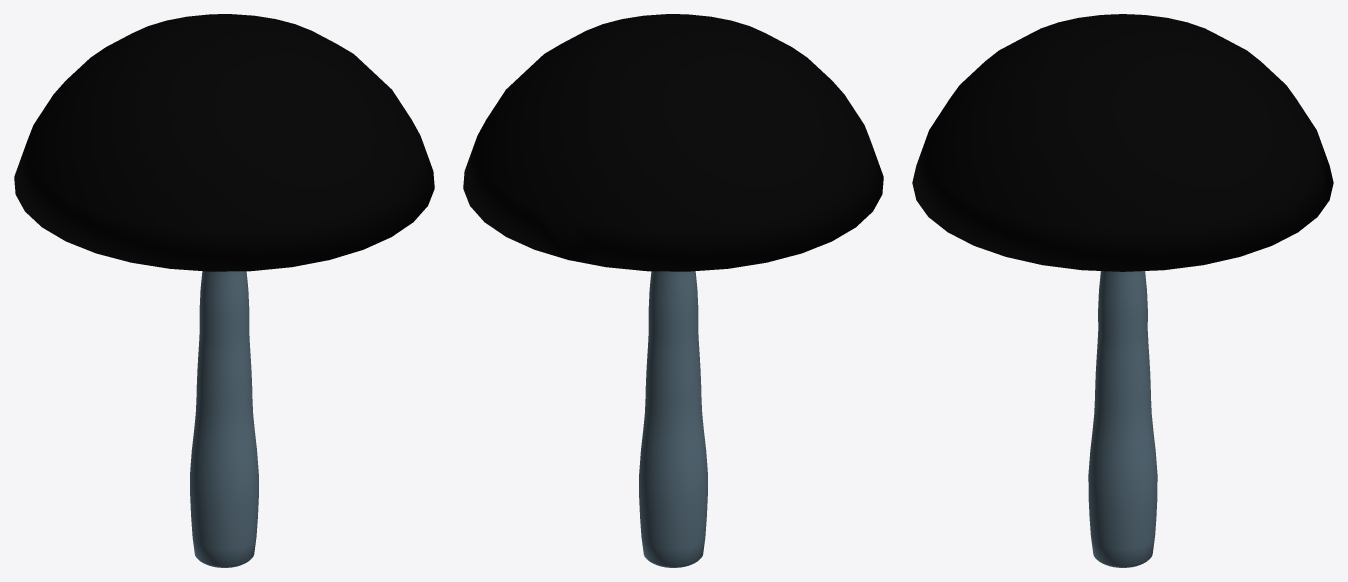
The model's file is big_shoom.glb.
3 renders of one model, left to right at view 1: azimuth 30°, elevation 25°; view 2: azimuth 150°, elevation 25°; view 3: azimuth 270°, elevation 25°, orthographic.
Parts seen in each view (by area): view 1: big_shoom; view 2: big_shoom; view 3: big_shoom.
Part boxes in pixels (x1=…): big_shoom: x1=14, y1=14, x2=434, y2=567; big_shoom: x1=463, y1=14, x2=883, y2=567; big_shoom: x1=912, y1=14, x2=1333, y2=567.
Size of the model in its own units: 7.61 by 10.43 by 7.61.
